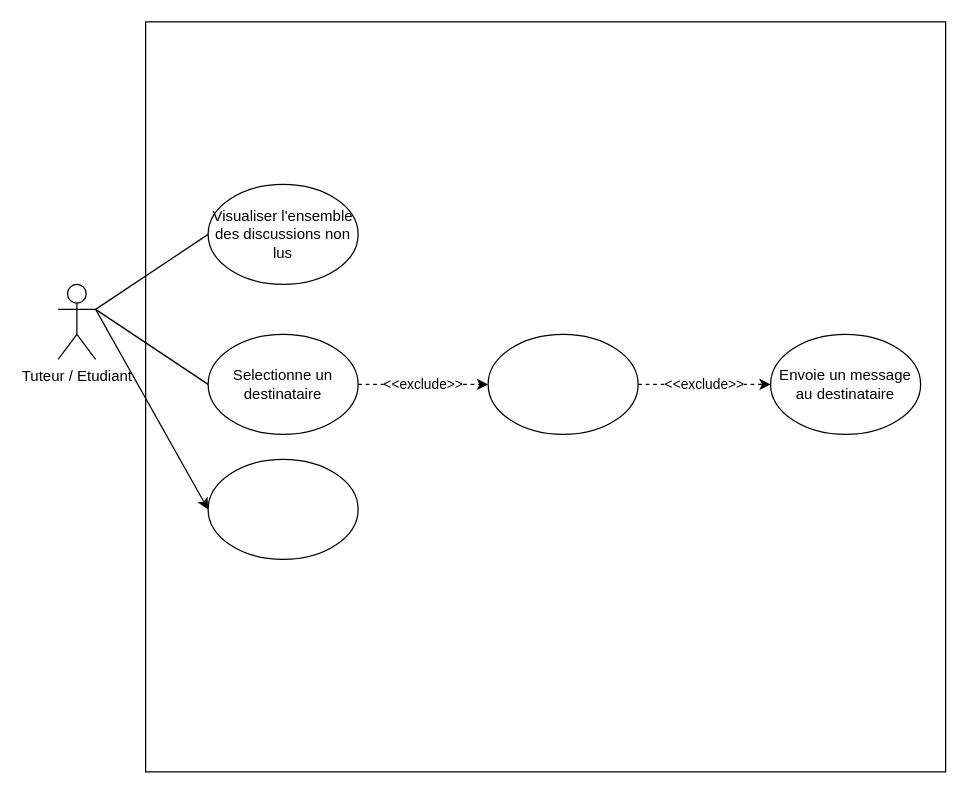
This 968x794 diagram has some shape labels left out. The shapes that lost their labels are listed below. From the top down, each one's centre as x and y in pixels, then its label:
At point 562,383: "Ecris un message".
At point 282,508: "supression d'une discussion".
